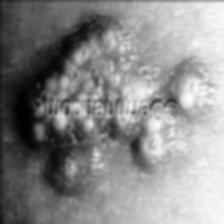Toxin: (0, 13, 208, 99), (0, 120, 206, 172)
